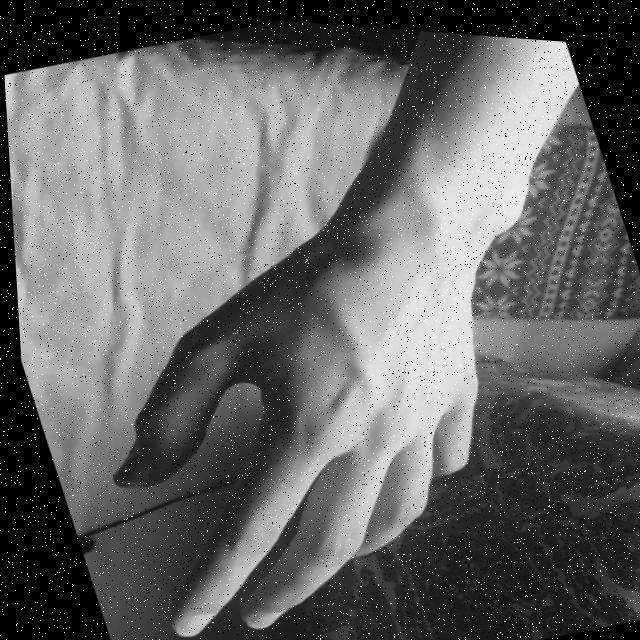no-gloves: (46, 207, 574, 640)
